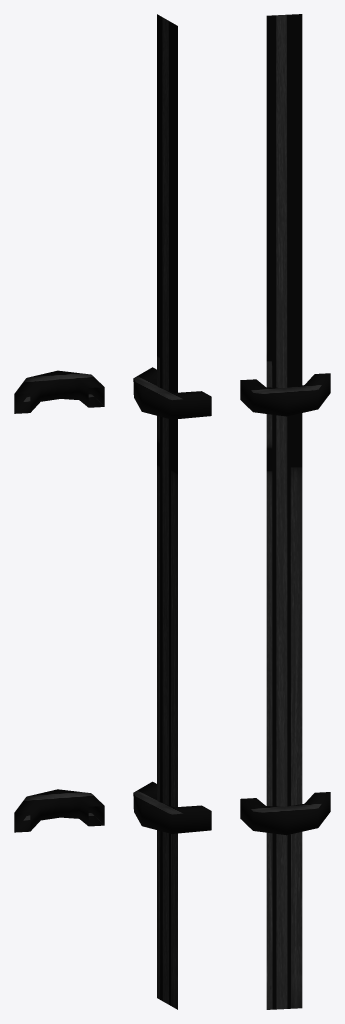
Rendered from SM_SwitchWireWallVert.FBX.
The picture shows the model from 3 angles, left to right: view 1: azimuth 90°, elevation 25°; view 2: azimuth 210°, elevation 25°; view 3: azimuth 270°, elevation 25°; orthographic projection.
Parts seen in each view (by area): view 1: Object078; view 2: Object078; view 3: Object078.
Boxes of the visible parts, x1,y1,x2,y2 form: Object078: (14,370,104,832); Object078: (133,14,211,1009); Object078: (240,14,330,1009).
Bounding box in the file's own units: 1.63 × 32 × 2.64.
